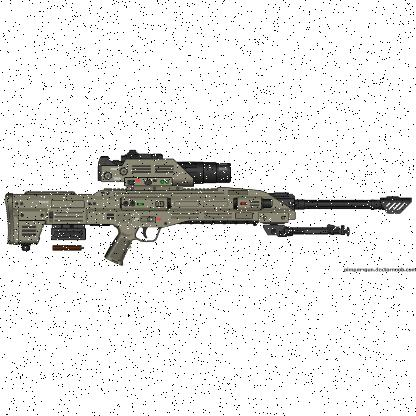gun: (11, 160, 415, 268)
